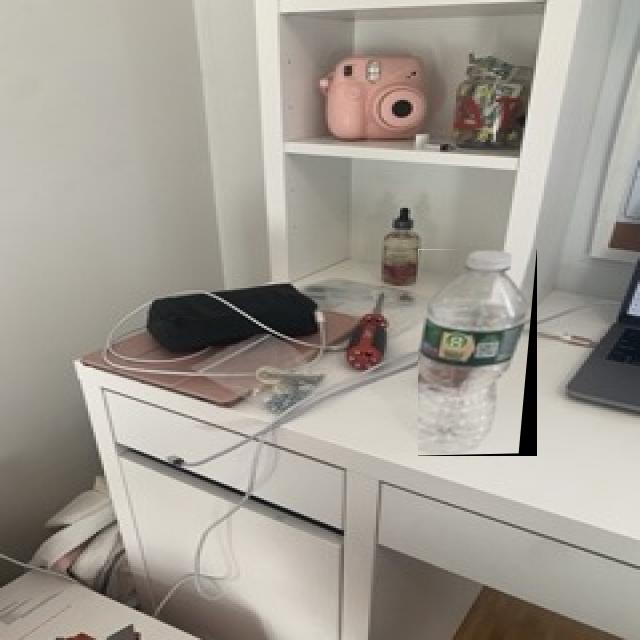water_bottle: (418, 249, 537, 456)
